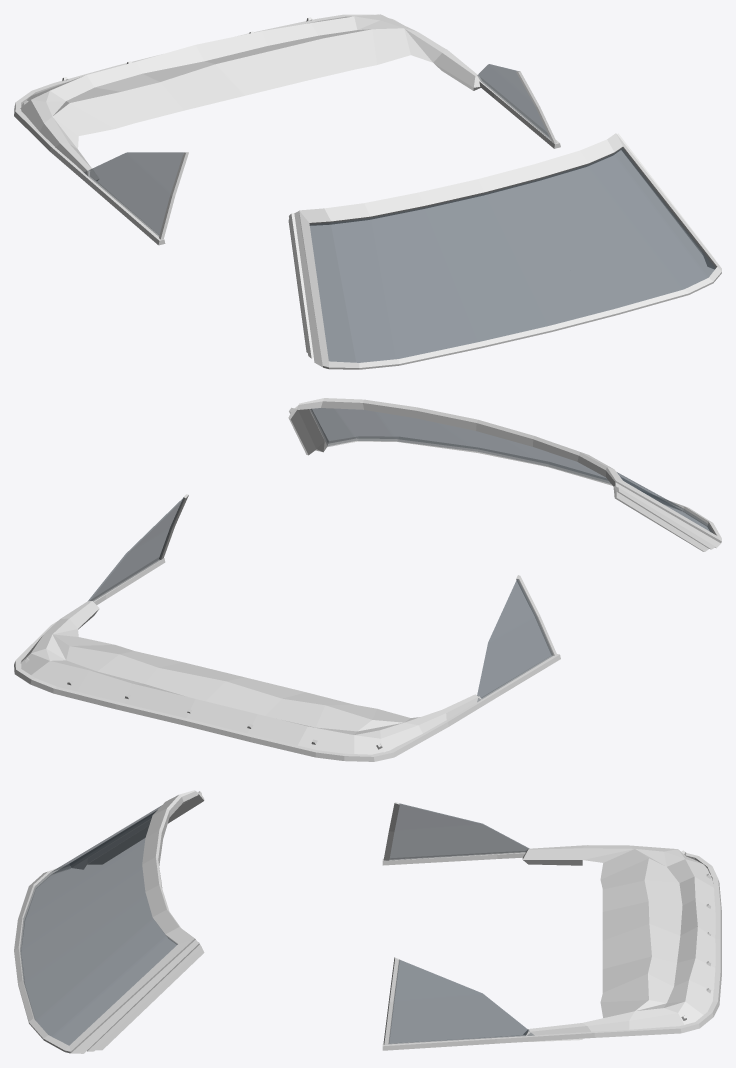
The model's file is Muscle_01_Roof_03.glb.
3 views of the same model, one above another, from view 1: azimuth 30°, elevation 25°; view 2: azimuth 150°, elevation 25°; view 3: azimuth 270°, elevation 25° (orthographic). The views are drawn at different scales.
Parts seen in each view (by area): view 1: SM_Veh_Muscle_01_Roof_03_Glass, SM_Veh_Muscle_01_Roof_03; view 2: SM_Veh_Muscle_01_Roof_03, SM_Veh_Muscle_01_Roof_03_Glass; view 3: SM_Veh_Muscle_01_Roof_03, SM_Veh_Muscle_01_Roof_03_Glass.
Boxes of the visible parts, <box> form: SM_Veh_Muscle_01_Roof_03_Glass: <box>84,64,715,362</box>; SM_Veh_Muscle_01_Roof_03: <box>14,14,721,369</box>; SM_Veh_Muscle_01_Roof_03: <box>14,398,721,761</box>; SM_Veh_Muscle_01_Roof_03_Glass: <box>88,408,713,701</box>; SM_Veh_Muscle_01_Roof_03: <box>14,790,721,1053</box>; SM_Veh_Muscle_01_Roof_03_Glass: <box>20,803,534,1045</box>.
Size of the model in its own units: 1.79 by 0.4563 by 2.82.
